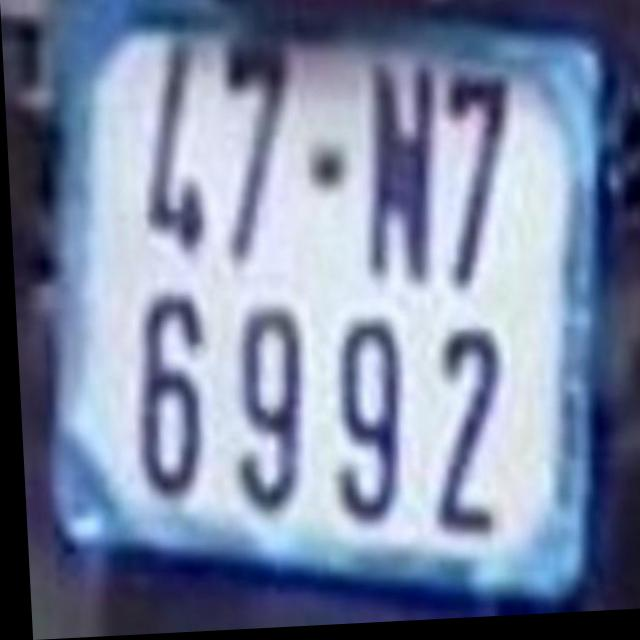2: (424, 337, 497, 544)
4: (139, 34, 206, 249)
6: (126, 296, 207, 487)
7: (217, 32, 295, 262), (446, 69, 518, 295)
9: (328, 319, 398, 526), (228, 311, 299, 511)
M: (363, 56, 435, 291)
